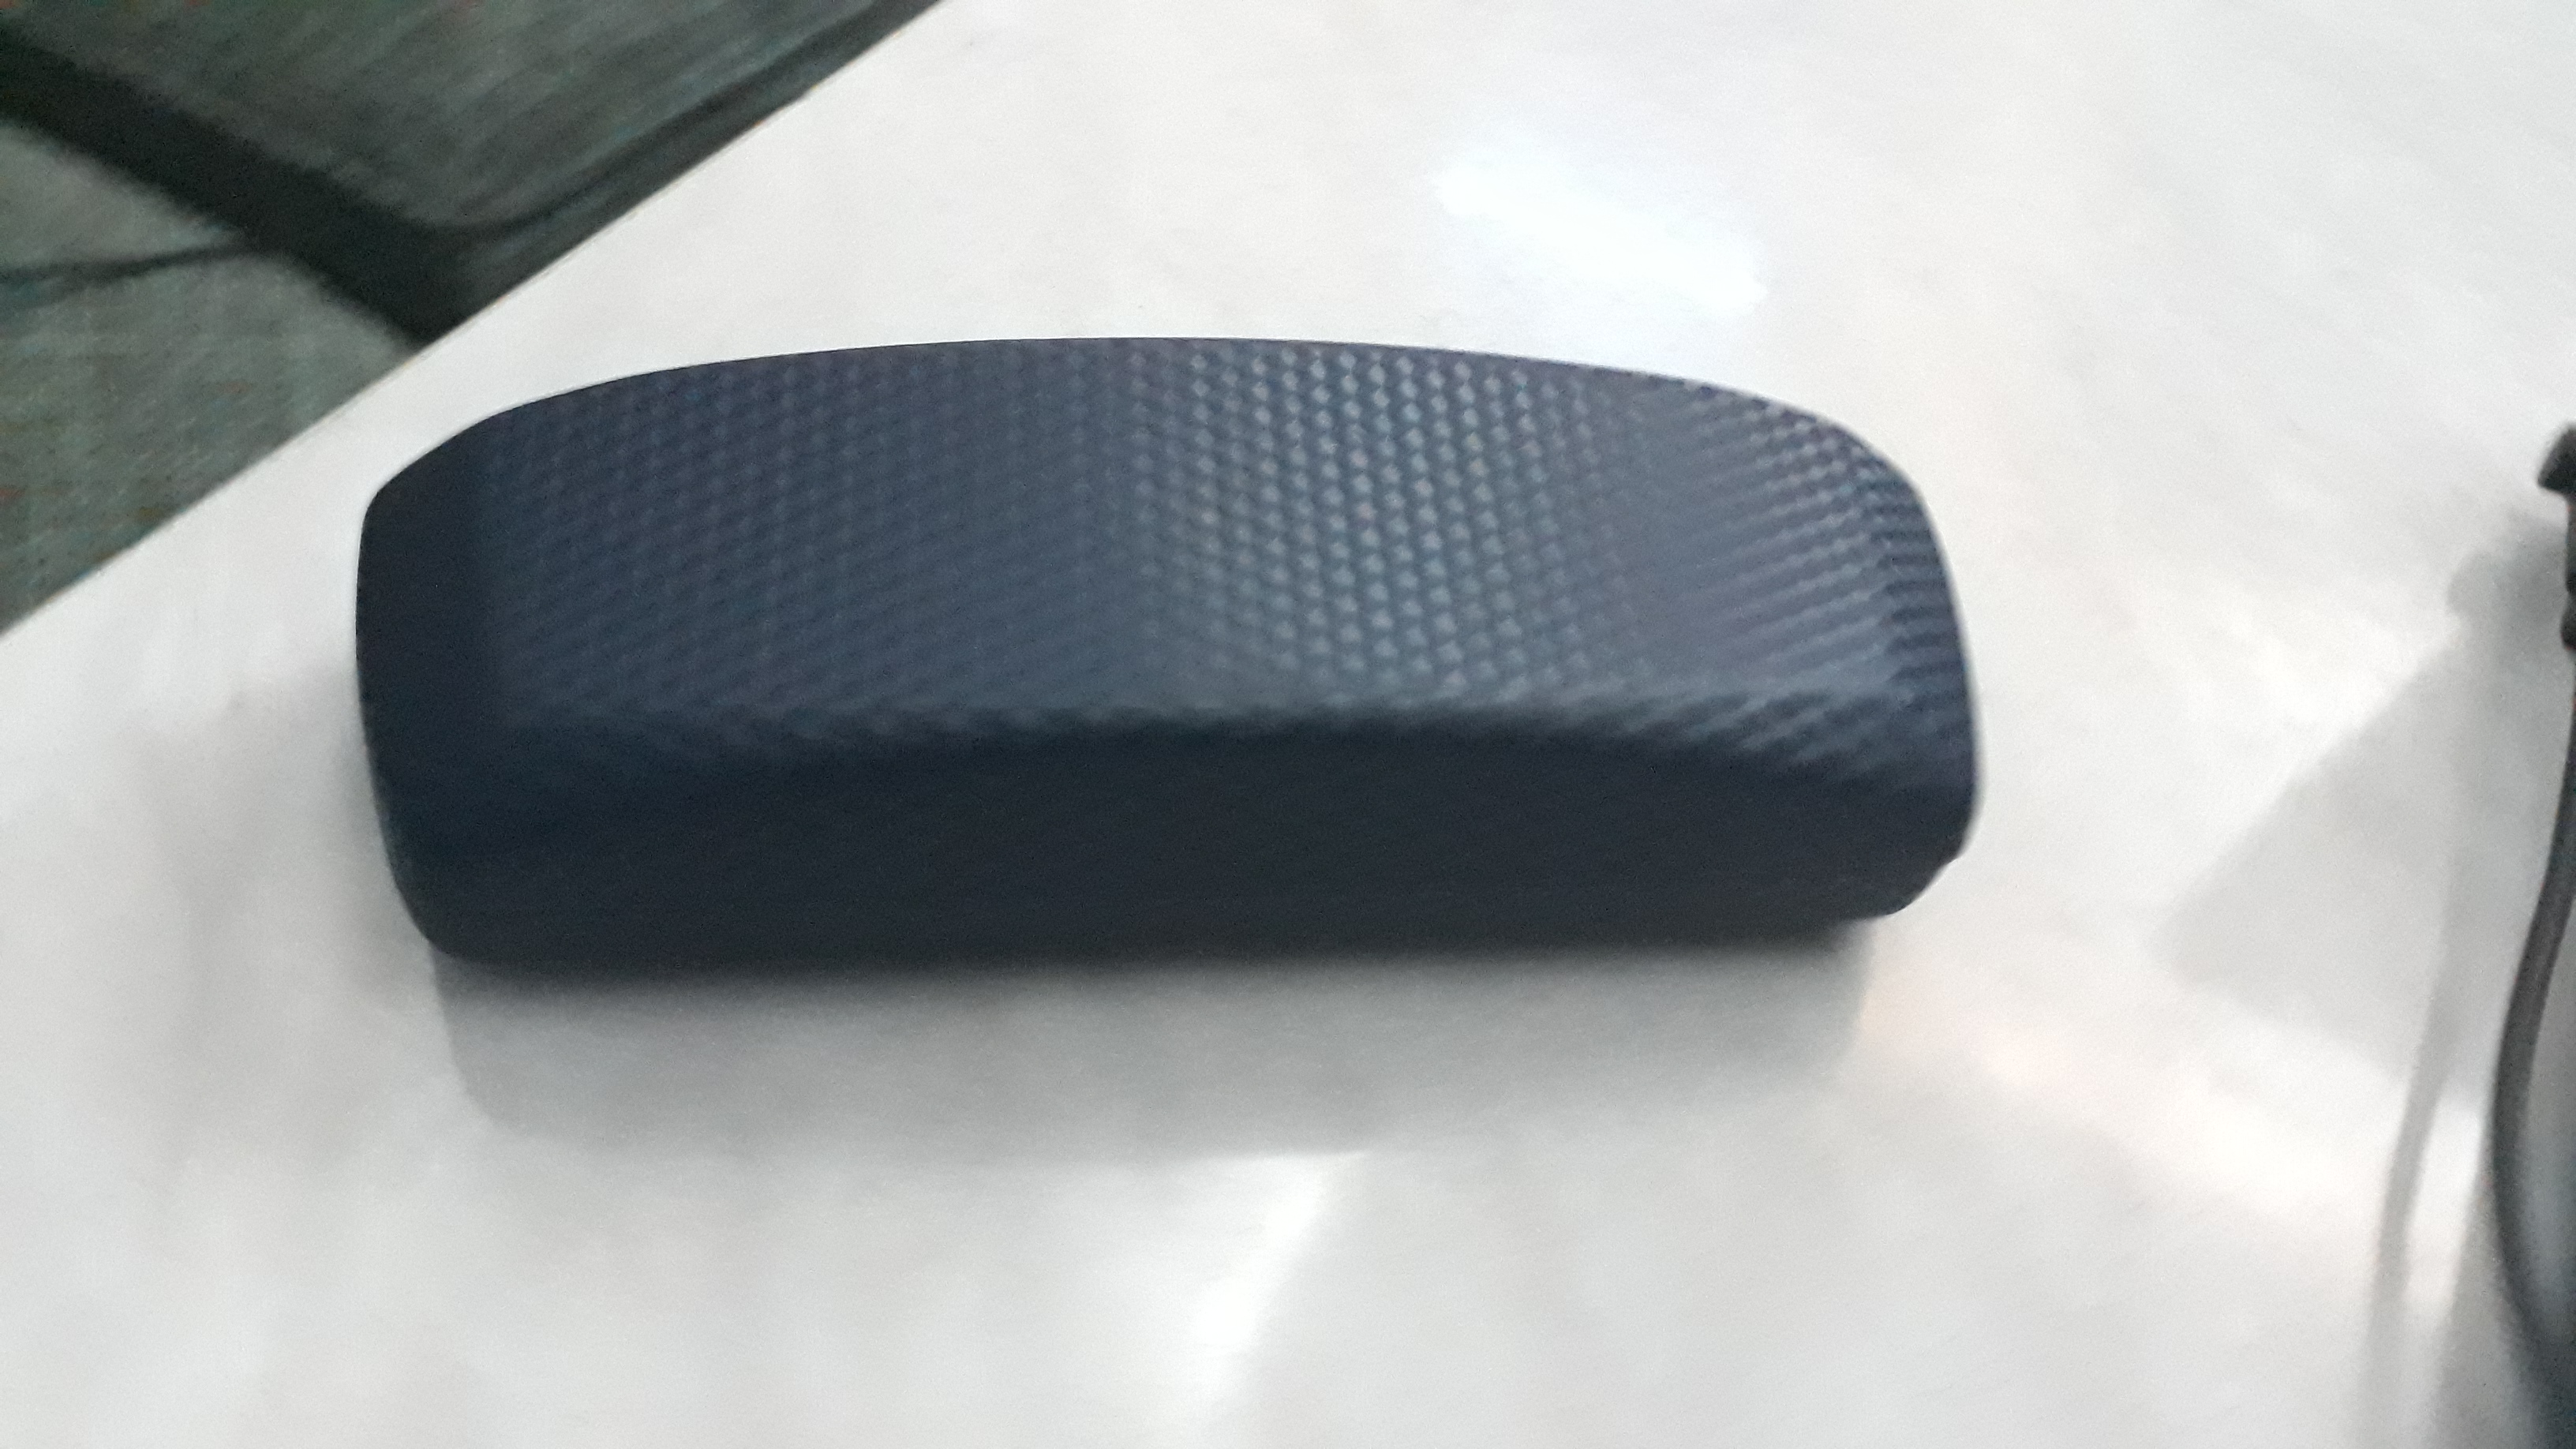nadar: (336, 315, 1978, 1083)
